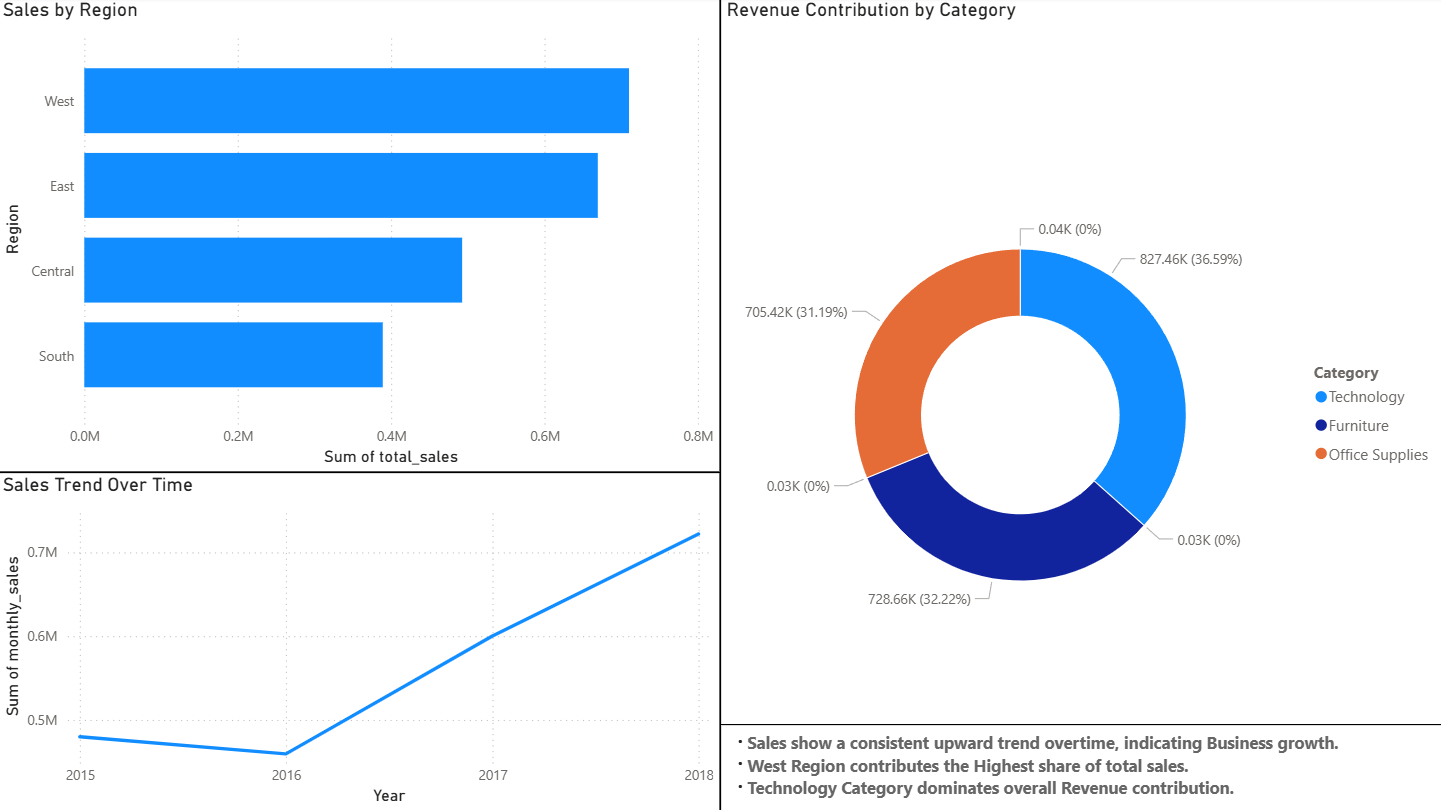

The dashboard page shown, as its layout file describes it:
{"tool":"powerbi","page":{"name":"Executive Overview","canvas":[1280,720],"ordinal":0},"visuals":[{"type":"clusteredBarChart","title":"Sales by Region","fields":{"Category":["_Q1_Total_Sales_by_Region_select_Region_SUM_Sales_AS_total_sales_202604151208.Region"],"Y":["Sum(_Q1_Total_Sales_by_Region_select_Region_SUM_Sales_AS_total_sales_202604151208.total_sales)"]},"box":[0,0,640,420.2],"z":0},{"type":"lineChart","title":"Sales Trend Over Time","fields":{"Category":["_Q4_Monthly_Sales_Trend_Year_Month_SELECT_DATE_TRUNC_month_TO_DA_202604151211.month.Variation.Date Hierarchy.Year","_Q4_Monthly_Sales_Trend_Year_Month_SELECT_DATE_TRUNC_month_TO_DA_202604151211.month.Variation.Date Hierarchy.Quarter","_Q4_Monthly_Sales_Trend_Year_Month_SELECT_DATE_TRUNC_month_TO_DA_202604151211.month.Variation.Date Hierarchy.Month","_Q4_Monthly_Sales_Trend_Year_Month_SELECT_DATE_TRUNC_month_TO_DA_202604151211.month.Variation.Date Hierarchy.Day"],"Y":["Sum(_Q4_Monthly_Sales_Trend_Year_Month_SELECT_DATE_TRUNC_month_TO_DA_202604151211.monthly_sales)"]},"box":[0,419.8,639.6,300],"z":1000},{"type":"donutChart","title":"Revenue Contribution by Category","fields":{"Category":["_Q10_Sales_Contribution_by_Category_CTE_Ratio_WITH_category_sale_202604151214.Category"],"Y":["Sum(_Q10_Sales_Contribution_by_Category_CTE_Ratio_WITH_category_sale_202604151214.percentage_contribution)","Sum(_Q10_Sales_Contribution_by_Category_CTE_Ratio_WITH_category_sale_202604151214.total_sales)"]},"box":[639.4,0,640.6,719.5],"z":2000},{"type":"textbox","box":[639.5,642.5,639.5,76.6],"z":2001}]}

Visuals, with their boxes in screenshot pixels (x1, y1, x2, y2), scaled from the page's 1280x720 canvas onto the 1441x810 screenshot:
"Sales by Region" clusteredBarChart: bbox=[0, 0, 720, 473]
"Sales Trend Over Time" lineChart: bbox=[0, 472, 720, 809]
"Revenue Contribution by Category" donutChart: bbox=[720, 0, 1440, 809]
textbox: bbox=[720, 723, 1440, 809]
